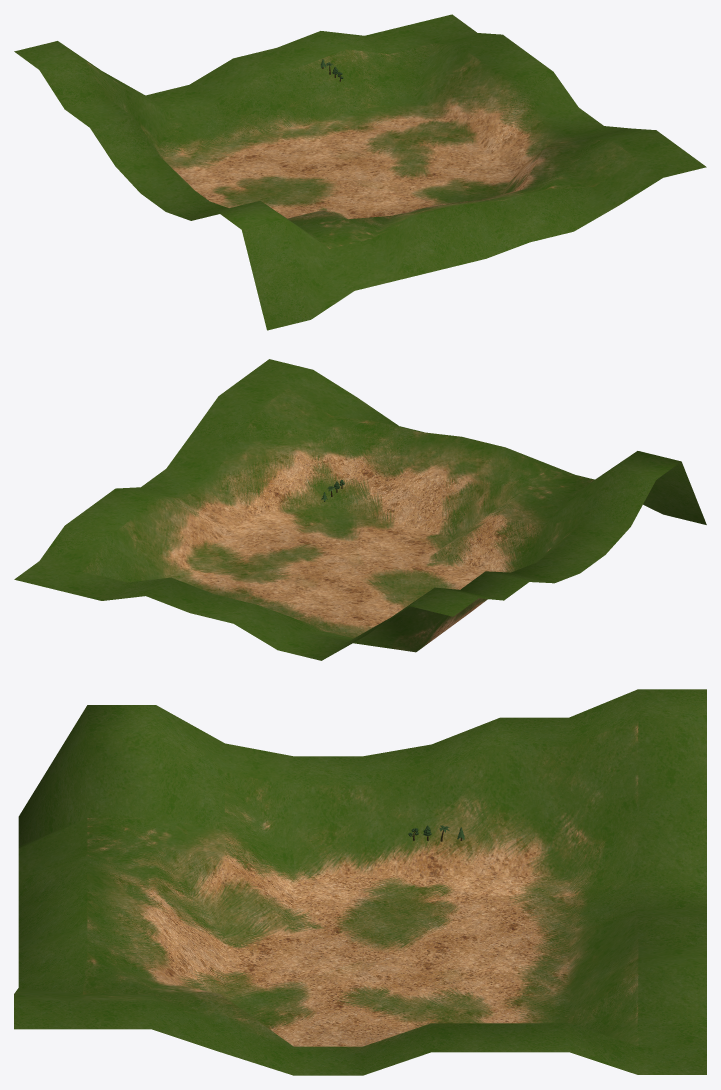
The model's file is TerrainGameVR.fbx.
3 views of the same model, one above another, from view 1: azimuth 30°, elevation 25°; view 2: azimuth 150°, elevation 25°; view 3: azimuth 270°, elevation 25° (orthographic). The views are drawn at different scales.
Visible parts, largest first — view 1: Terrain; view 2: Terrain; view 3: Terrain.
Part boxes in pixels (x1,y1,x2,y2): Terrain: (14, 14, 706, 330); Terrain: (14, 359, 706, 660); Terrain: (14, 689, 706, 1075).
Size of the model in its own units: 420 by 91.89 by 422.
Materials: 3 (1 with a texture image).
